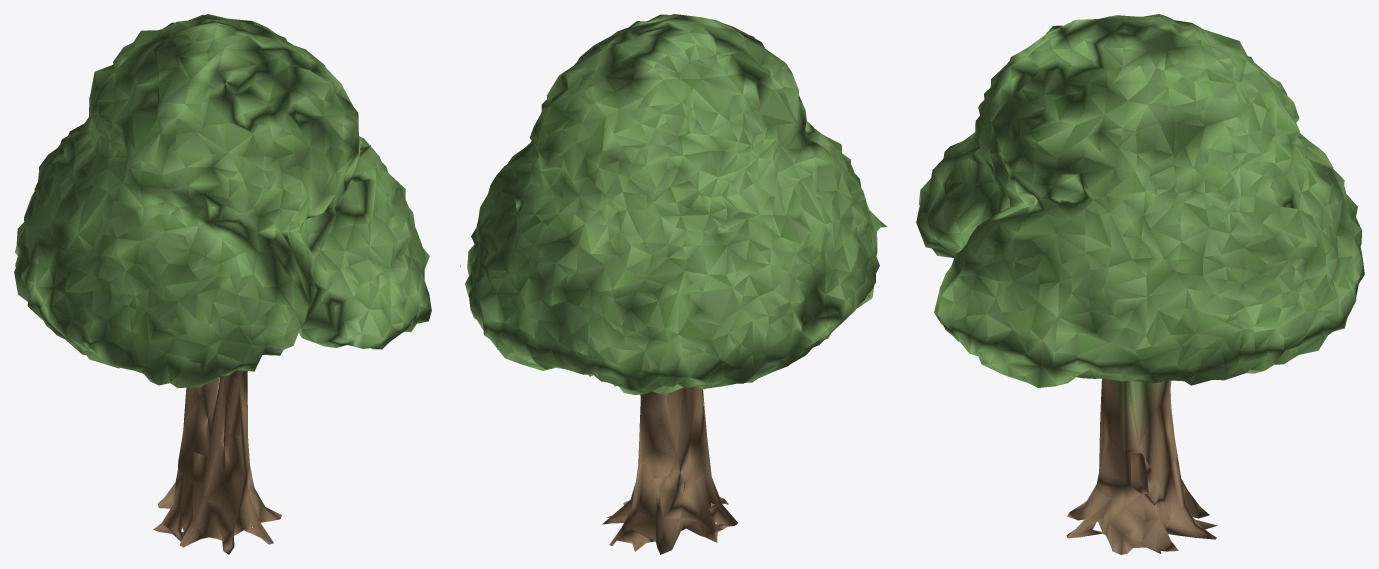
The model's file is oak_tree.glb.
3 views of the same model, side by side, from view 1: azimuth 30°, elevation 25°; view 2: azimuth 150°, elevation 25°; view 3: azimuth 270°, elevation 25° (orthographic). The views are drawn at different scales.
Visible parts, largest first — view 1: world; view 2: world; view 3: world.
Part boxes in pixels (x1,y1,x2,y2): world: (14,14,431,554); world: (460,14,886,554); world: (916,14,1364,554).
Size of the model in its own units: 3.08 by 4.2 by 3.38.
